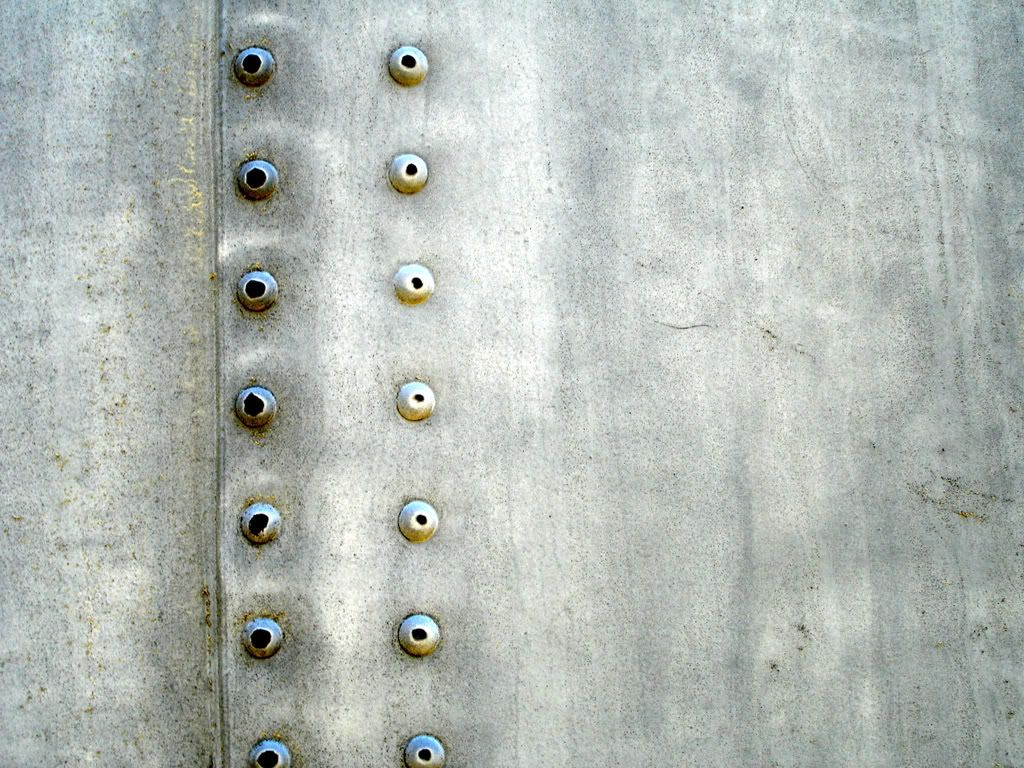screw: (231, 380, 281, 435), (395, 609, 444, 663), (232, 263, 280, 318), (233, 496, 283, 547), (395, 495, 443, 546), (230, 43, 278, 93), (384, 149, 433, 197), (238, 613, 286, 662), (235, 156, 281, 206), (391, 262, 439, 309), (386, 41, 432, 88), (396, 377, 439, 425), (399, 728, 447, 768), (248, 732, 292, 768)
